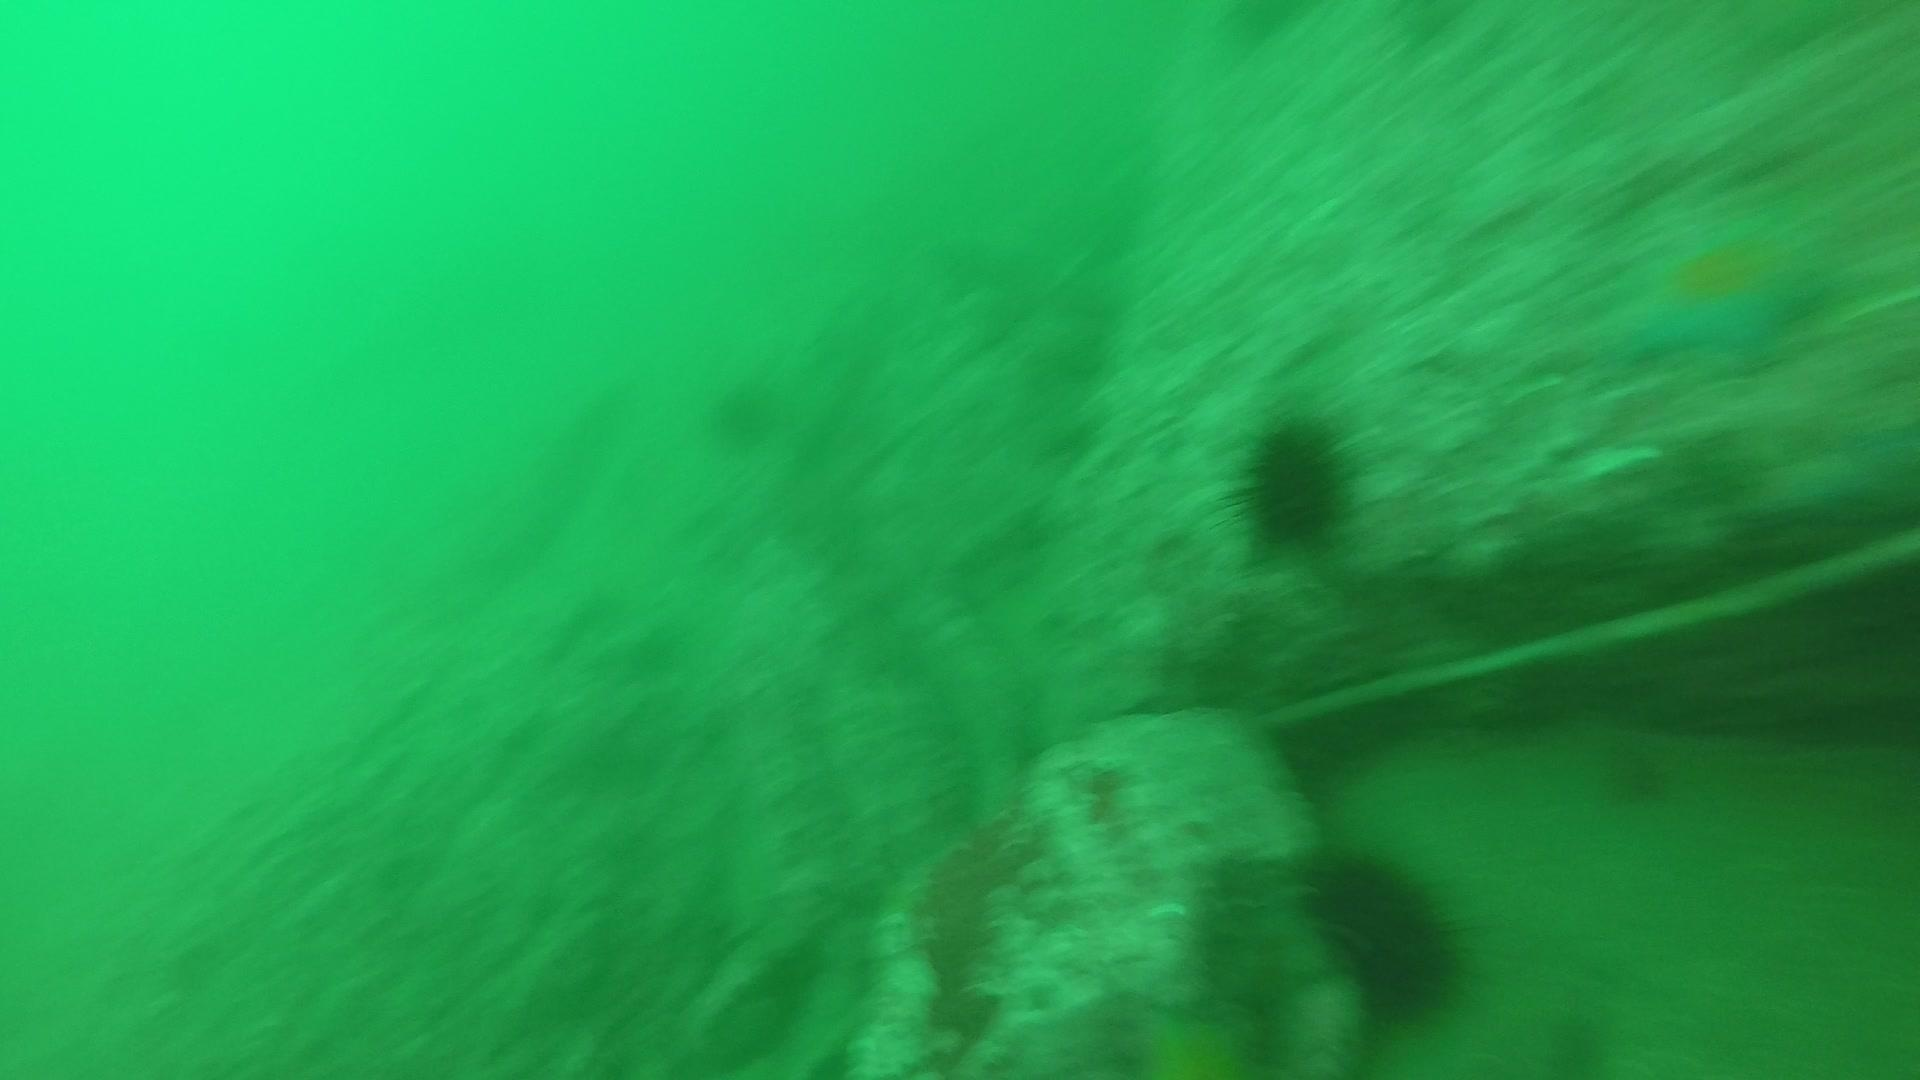echinus: (1294, 840, 1476, 1026), (1226, 410, 1360, 556), (703, 371, 785, 452)
starfish: (1613, 200, 1844, 372)
